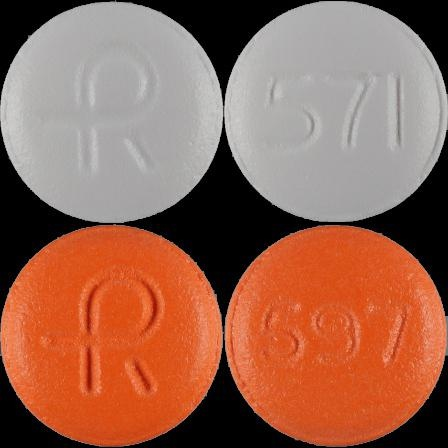0228-2571: (0, 0, 224, 224)
